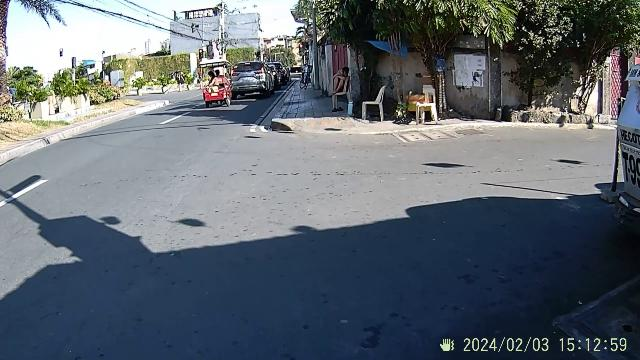bench: (358, 82, 386, 120), (414, 86, 442, 122)
tricycle: (198, 56, 234, 106)
